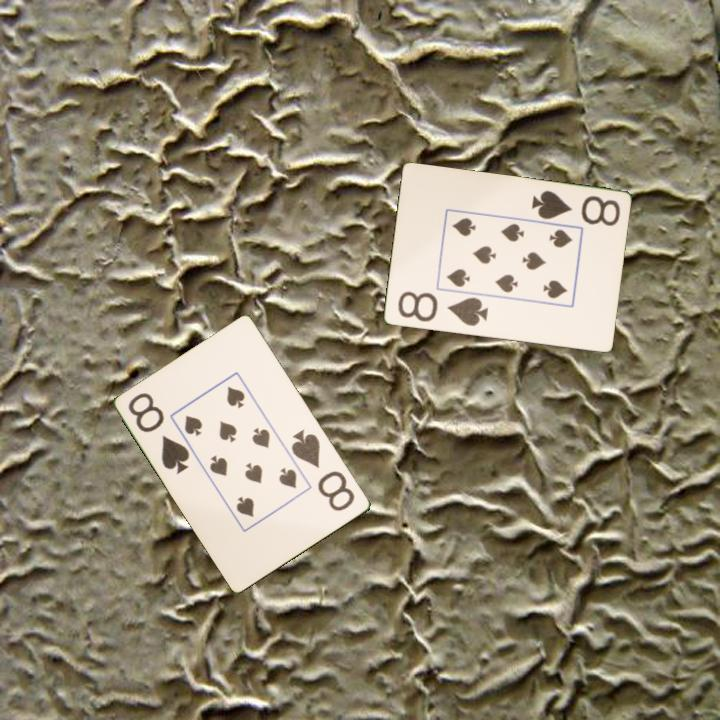8s: (288, 426, 358, 514), (125, 389, 193, 477), (528, 187, 623, 229), (394, 288, 490, 329)
